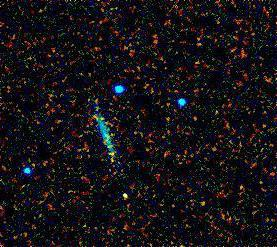star: (110, 181, 140, 211)
